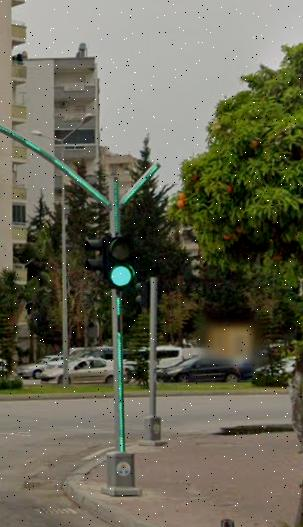greenlight: (105, 232, 136, 293)
